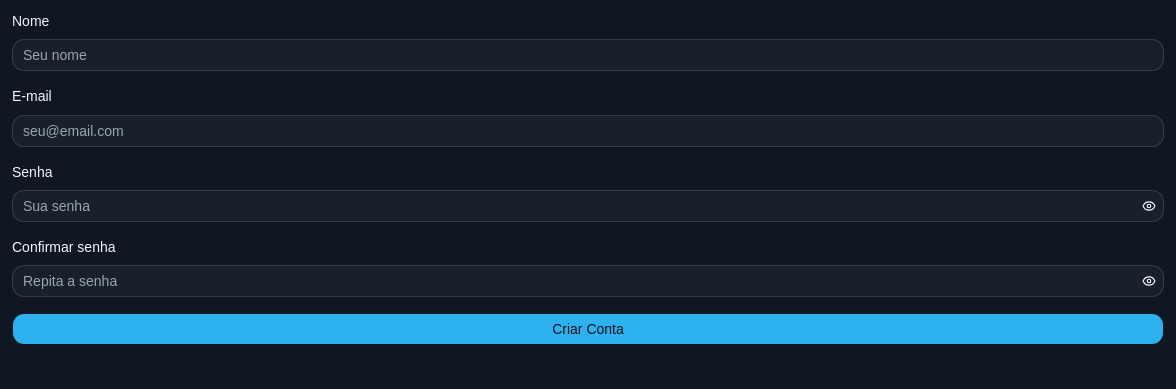
Test: SignUpForm › deve exibir erro específico no campo quando a senha é fraca
Type "Maria Oliveira" into the field labelled "Nome".
click(588, 55); type("Maria Oliveira")  # box [12, 39, 1164, 71]
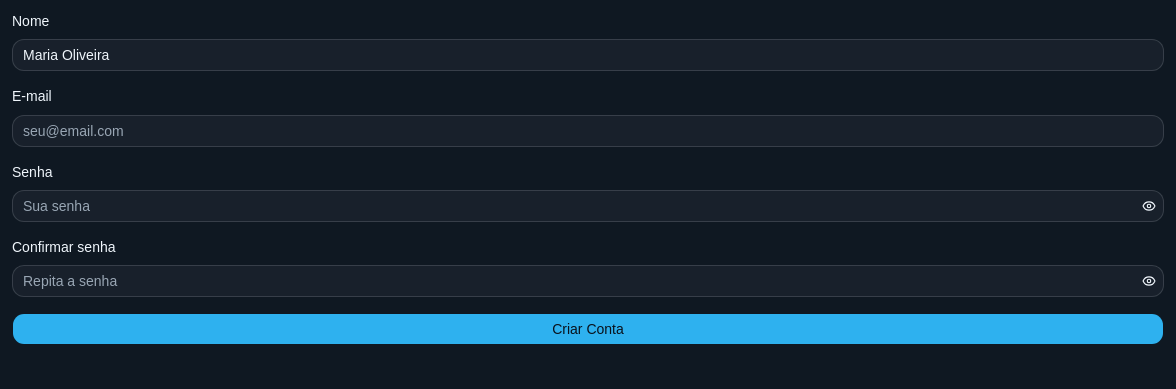
Type "maria.oliveira@example.com" into the field labelled "E-mail".
click(588, 130); type("maria.oliveira@example.com")  # box [12, 114, 1164, 146]
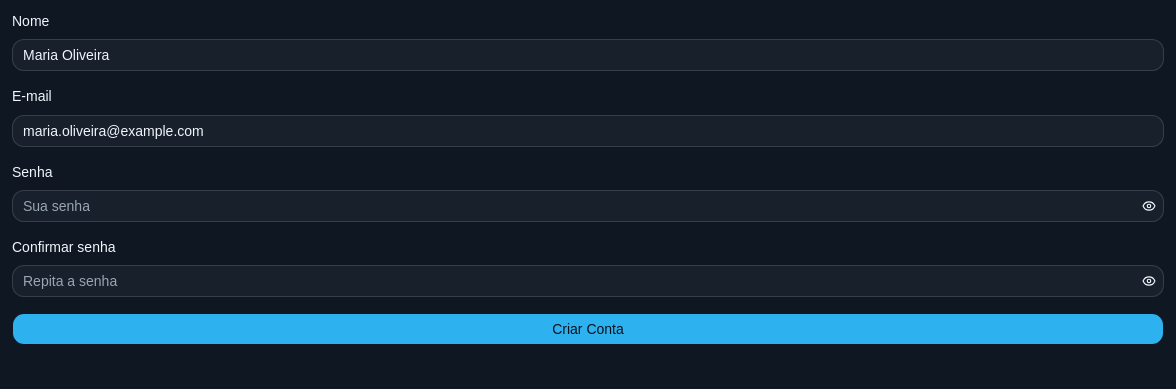
Type "senha123" into the password field labelled "Senha".
click(574, 206); type("senha123")  # box [13, 190, 1135, 222]
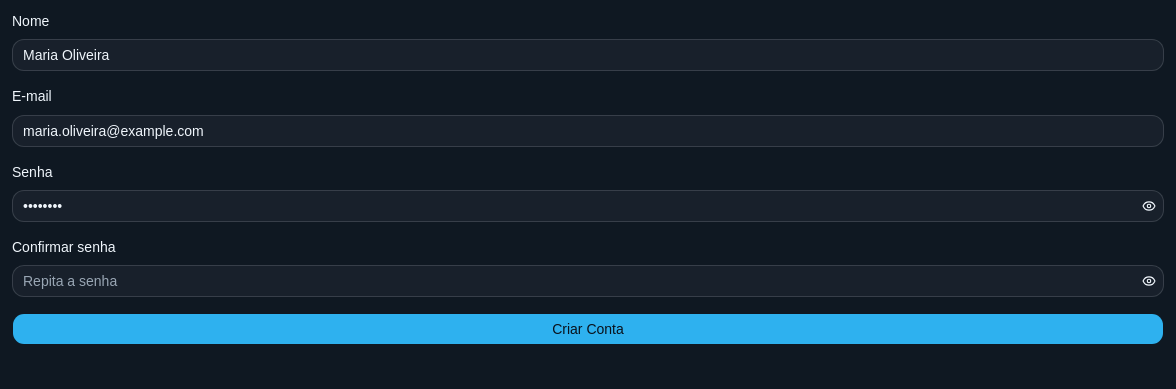
Type "senha123" into the password field labelled "Confirmar senha".
click(574, 281); type("senha123")  # box [13, 265, 1135, 297]
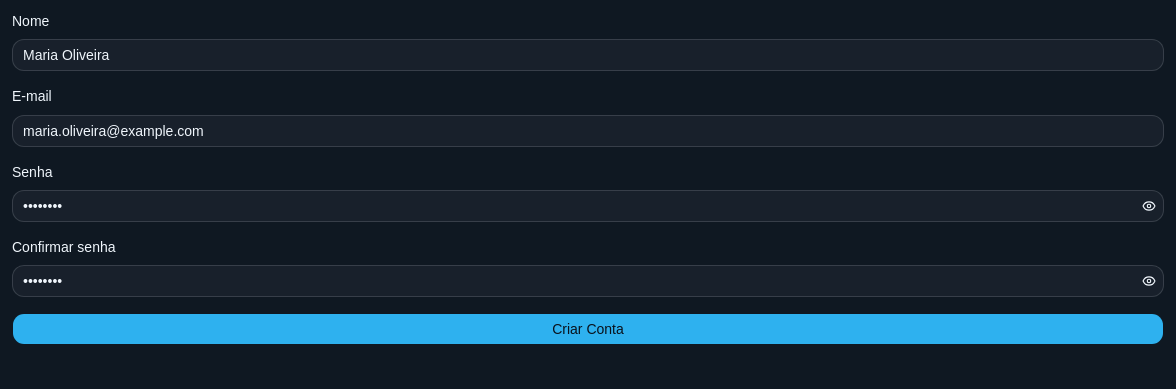
Click the button "Criar Conta".
click(588, 329)  # box [12, 313, 1164, 345]
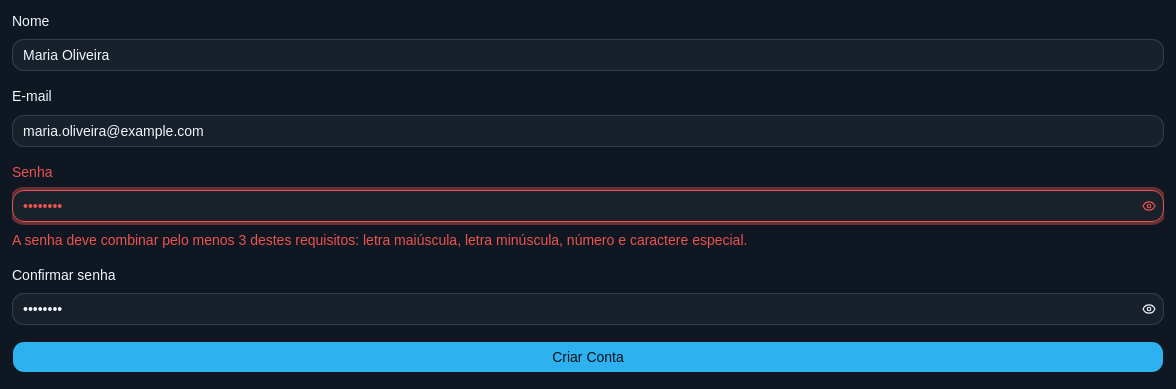
Now the text "A senha deve combinar pelo menos 3 destes requisitos: letra maiúscula, letra minúscula, número e caractere especial." is shown, box [12, 232, 747, 248]
